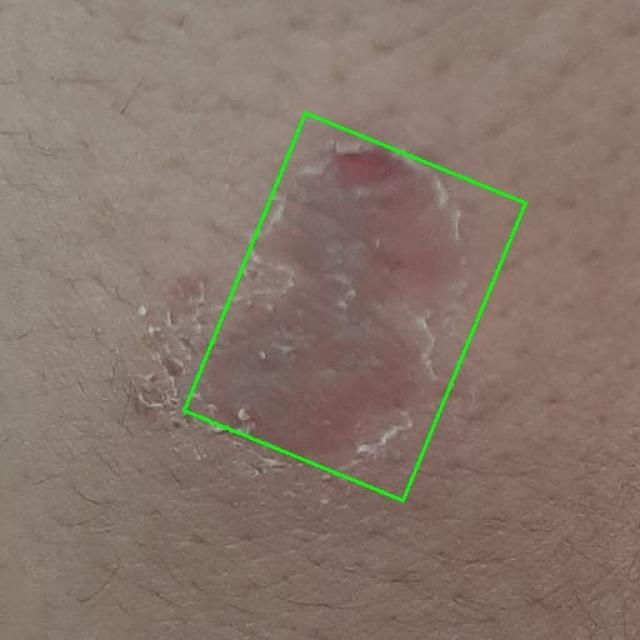Tinea Corporis: (184, 113, 525, 500)
